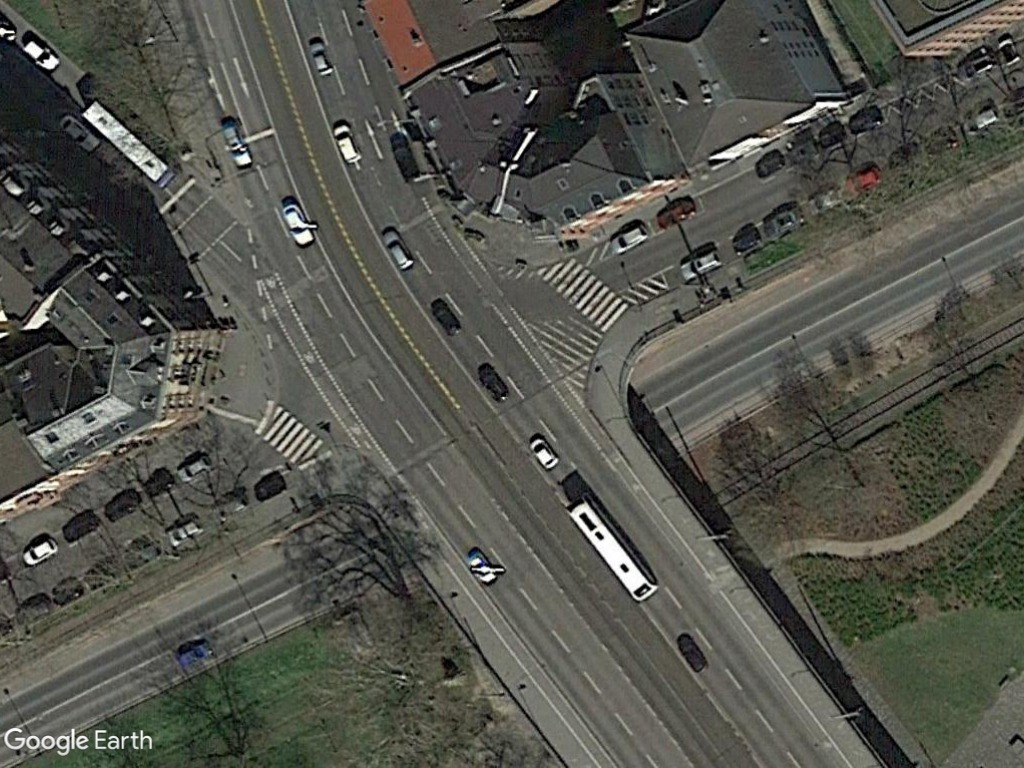bus: (560, 493, 661, 605), (79, 98, 174, 186)
car: (54, 112, 104, 157), (376, 227, 418, 273), (279, 201, 316, 249), (674, 248, 721, 284), (332, 120, 364, 170), (19, 534, 60, 572), (608, 220, 649, 256), (524, 433, 561, 472), (305, 37, 335, 81), (175, 451, 214, 484)
